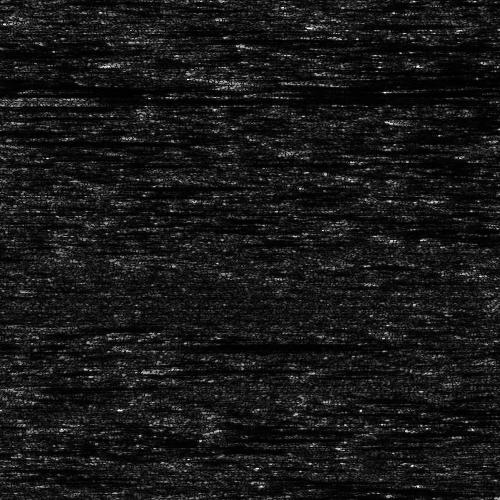rock: (62, 335, 229, 352), (353, 113, 446, 124), (283, 75, 376, 82), (309, 20, 372, 25), (141, 365, 182, 372), (0, 381, 31, 388), (0, 138, 40, 143), (21, 98, 52, 101)
shadow: (0, 74, 500, 87), (146, 335, 347, 352), (330, 75, 500, 82), (400, 113, 500, 124), (37, 98, 367, 101), (0, 138, 187, 143), (16, 381, 148, 388), (162, 365, 266, 372), (341, 20, 449, 25), (0, 49, 107, 52), (0, 126, 20, 133)
